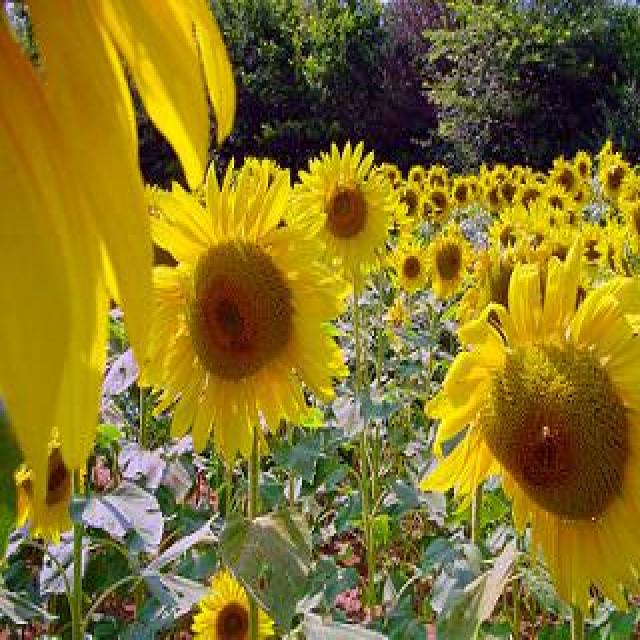sunflower: (0, 0, 232, 496), (422, 238, 640, 611), (126, 153, 350, 463), (463, 245, 588, 345), (300, 140, 392, 271), (190, 568, 278, 640), (428, 228, 466, 292), (394, 243, 429, 293), (603, 214, 628, 270), (552, 157, 582, 200), (539, 184, 578, 216), (390, 186, 422, 222), (620, 194, 640, 250), (584, 226, 608, 264), (427, 184, 453, 219), (606, 161, 630, 196), (390, 204, 414, 236), (491, 219, 520, 245), (454, 178, 472, 206), (500, 179, 520, 204), (518, 186, 541, 207), (486, 188, 506, 210), (577, 151, 592, 178), (407, 168, 425, 182)
